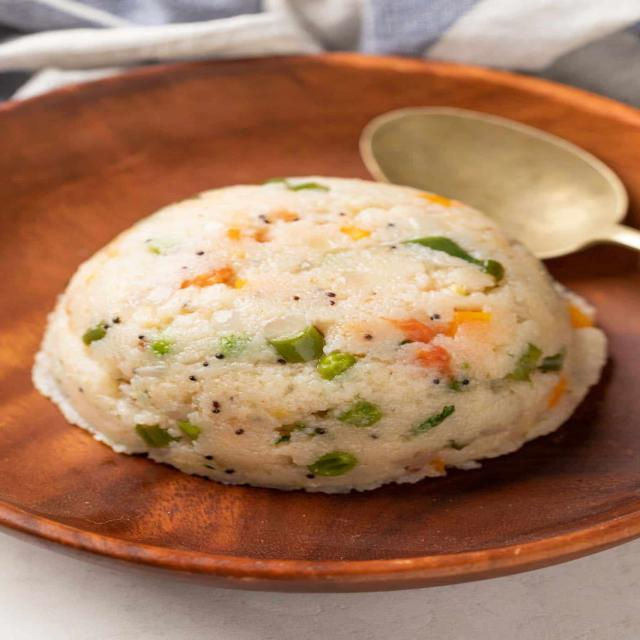upma: (12, 160, 634, 512)
